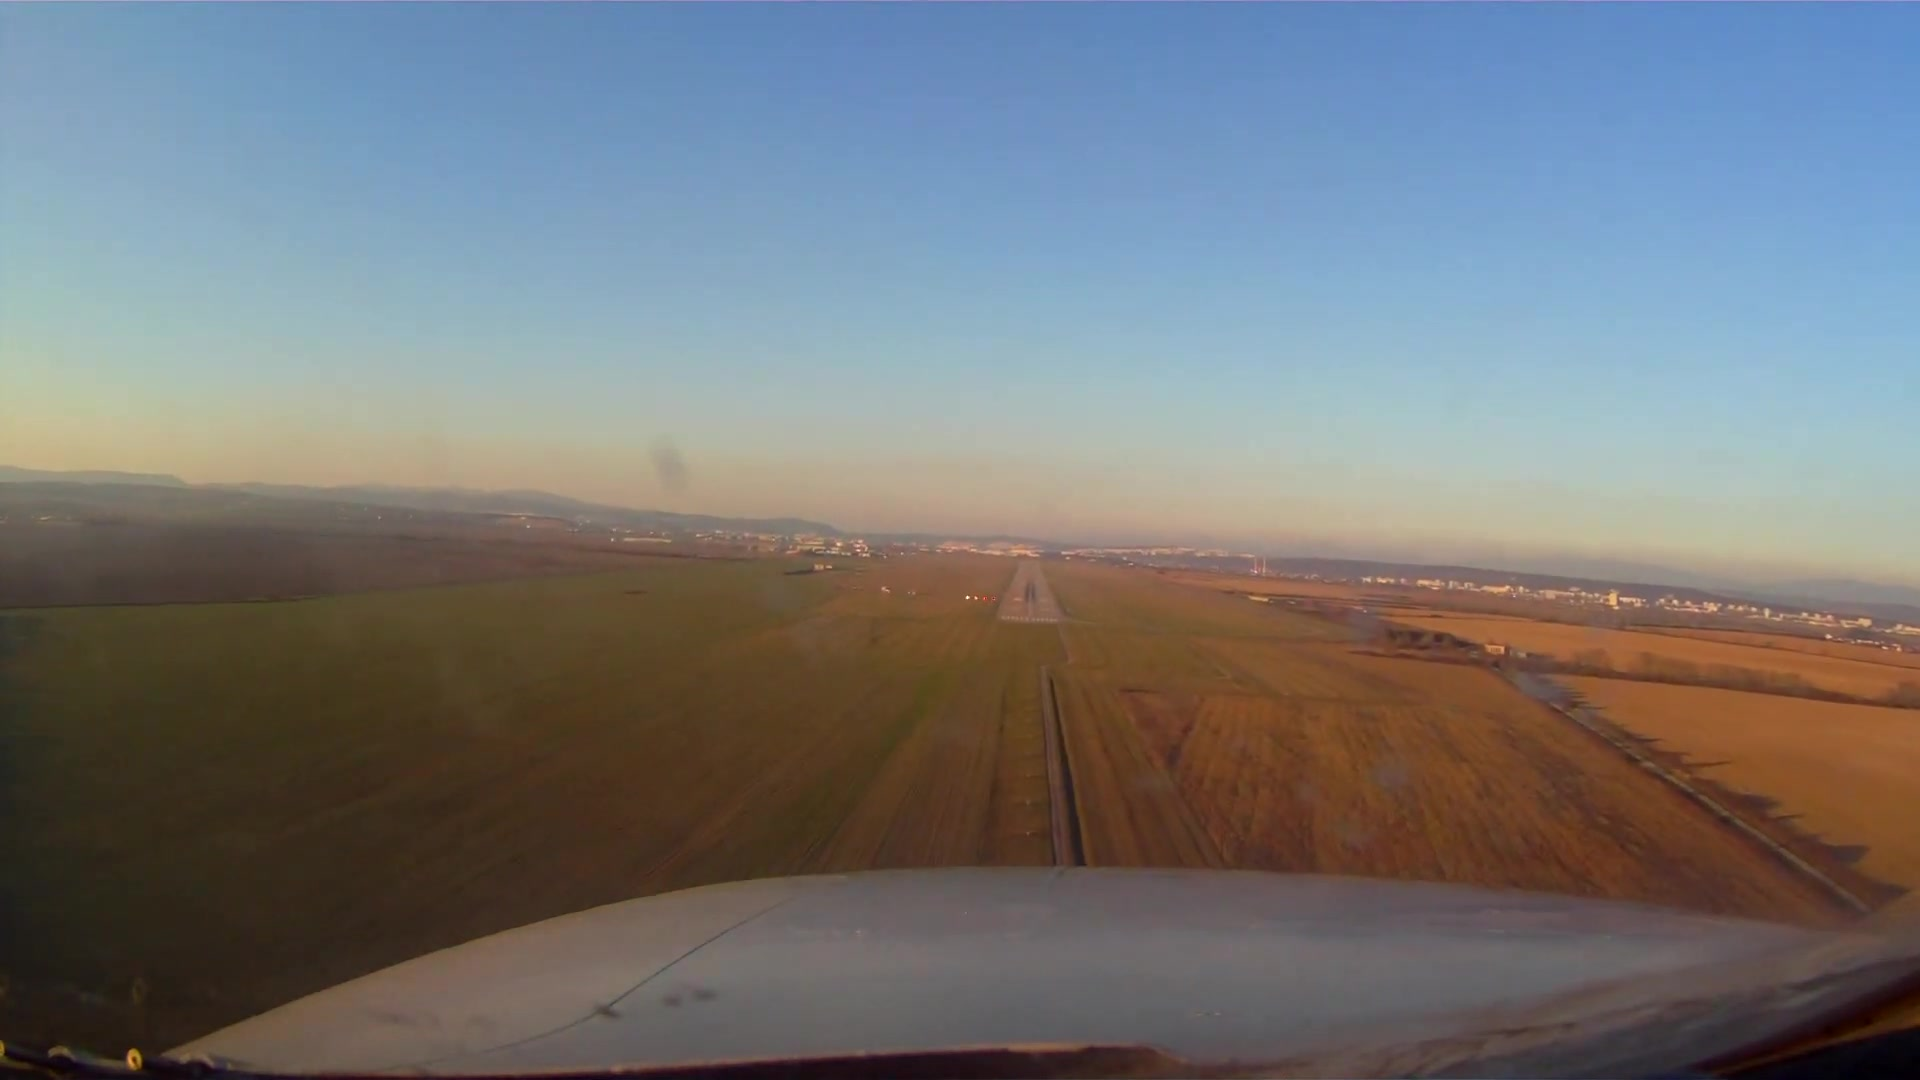entrance: (1000, 613, 1064, 622)
runway: (992, 559, 1069, 625)
